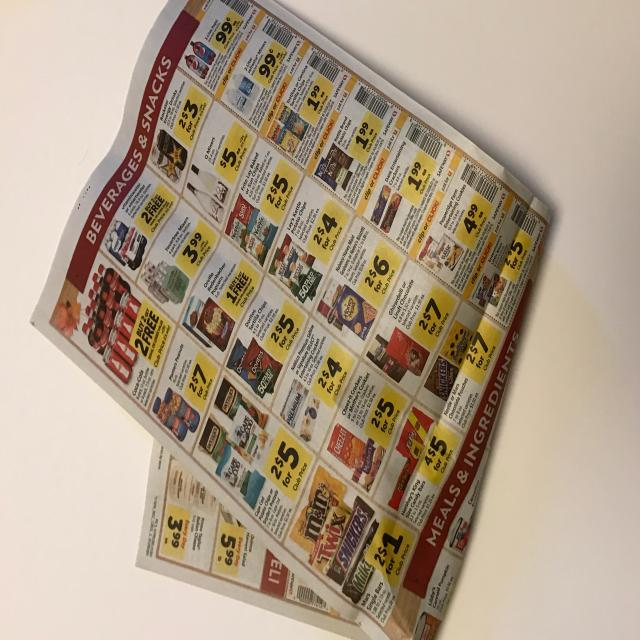paper: (12, 0, 565, 640)
